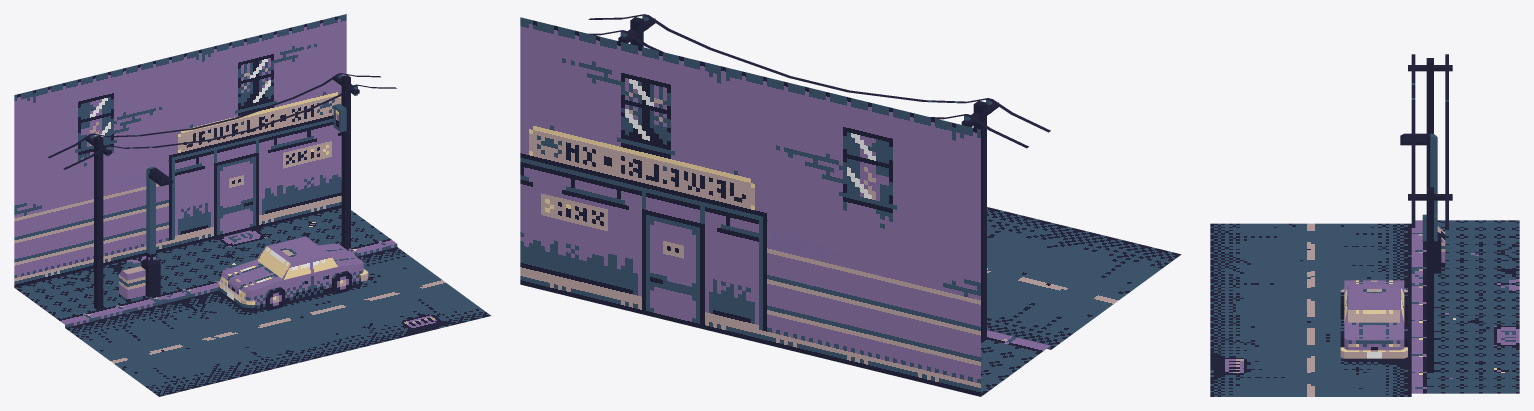
Rendered from pixel_car_street.glb.
3 renders of one model, left to right at view 1: azimuth 30°, elevation 25°; view 2: azimuth 150°, elevation 25°; view 3: azimuth 270°, elevation 25°, orthographic. The views are drawn at different scales.
Visible parts, largest first — view 1: Cube.001; view 2: Cube.001; view 3: Cube.001.
Boxes of the visible parts, x1=… form: Cube.001: x1=14, y1=14, x2=490, y2=396; Cube.001: x1=520, y1=14, x2=1181, y2=396; Cube.001: x1=1210, y1=54, x2=1519, y2=396.
Size of the model in its own units: 10.36 by 5.84 by 7.82.
Materials: 1 (1 with a texture image).
